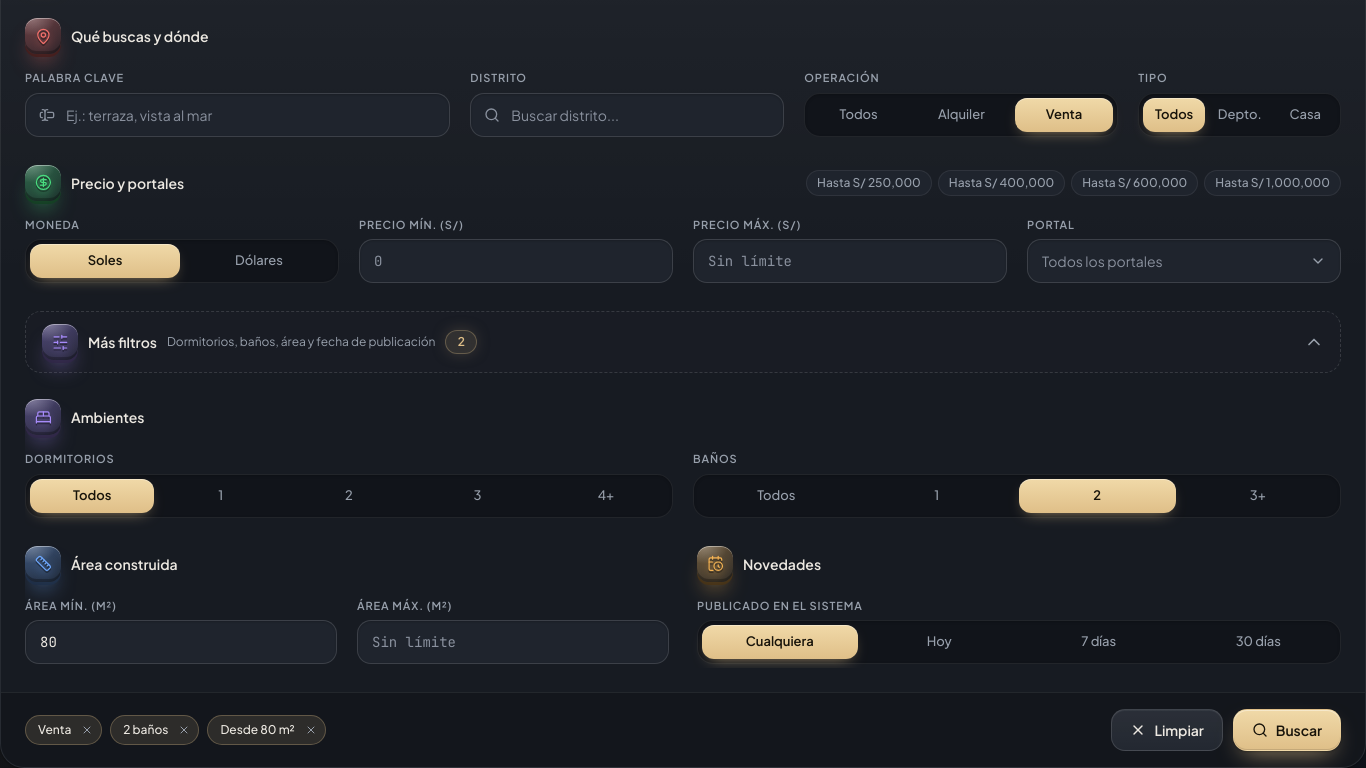
Test: PortalFilters › cada filtro cambiado aparece como chip con contador, y quitarlo lo aplica al instante
This screenshot has width=1366, height=768.
(page scrolled)
Check: the text "Venta" is shown, box [38, 722, 71, 738]
Check: the text "2 baños" is shown, box [123, 722, 168, 738]
Click the button named "Quitar filtro: 2 baños" at (184, 730), box [174, 720, 194, 740]
(page scrolled)
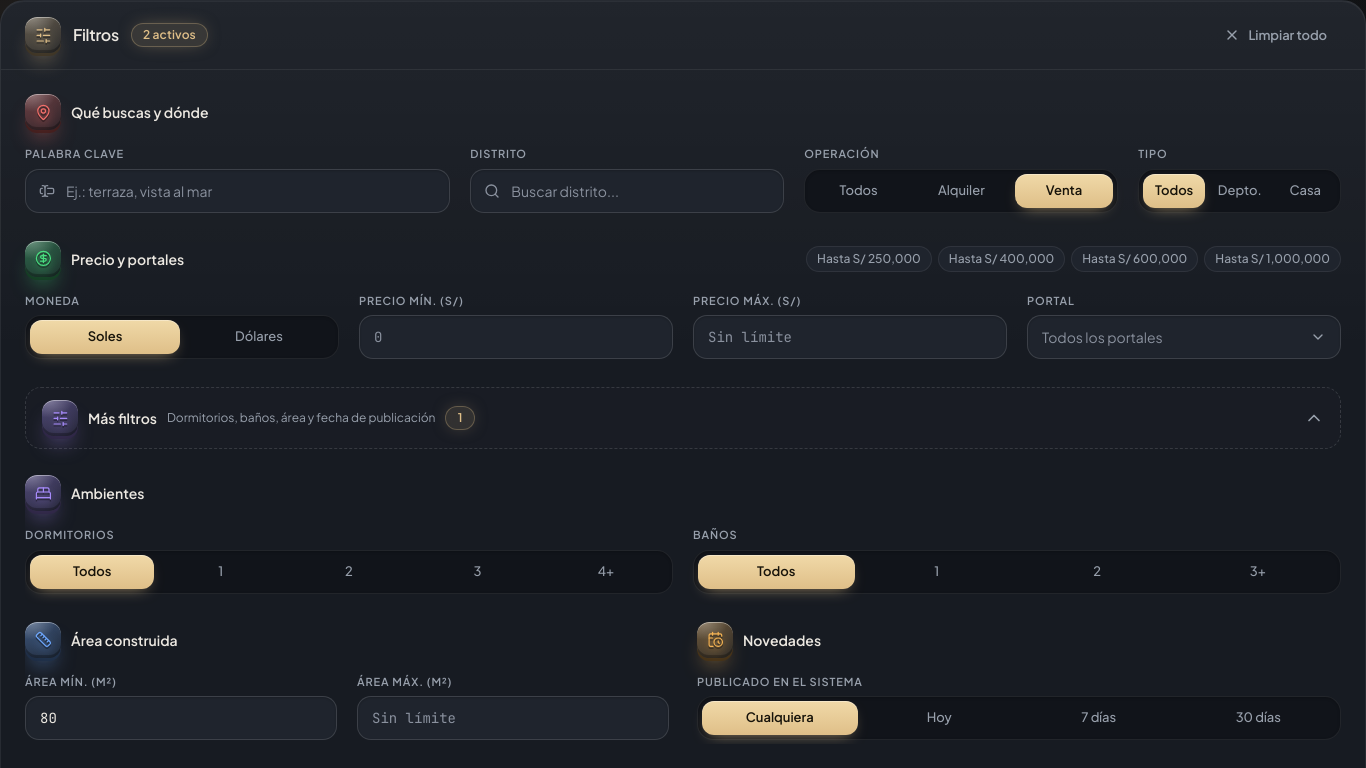
Check: the text "2 activos" is shown, box [131, 23, 208, 47]
